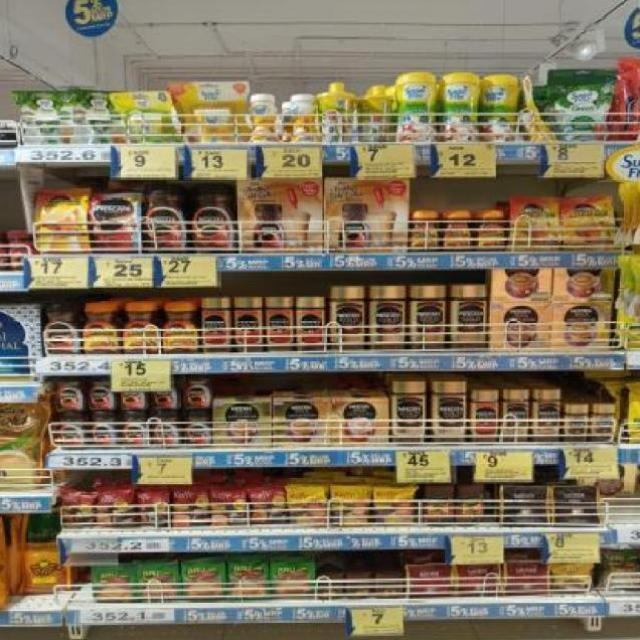Coffee: (36, 188, 91, 253), (191, 183, 238, 254), (146, 183, 189, 253), (92, 194, 143, 253), (509, 197, 561, 251), (563, 197, 612, 251), (371, 287, 406, 350), (455, 285, 488, 350), (434, 382, 468, 443), (334, 286, 366, 349), (394, 382, 426, 442), (414, 287, 444, 351), (43, 305, 81, 354), (162, 304, 198, 353), (123, 304, 159, 353), (85, 305, 120, 353), (442, 211, 473, 252), (535, 389, 559, 441), (505, 388, 528, 441), (475, 210, 504, 252), (410, 210, 438, 252), (152, 411, 181, 448), (150, 375, 181, 409), (88, 375, 118, 410), (58, 413, 87, 449), (184, 409, 211, 447), (90, 412, 118, 448), (57, 377, 85, 412), (123, 412, 150, 447), (184, 373, 211, 408), (595, 405, 616, 442), (566, 405, 587, 440)
